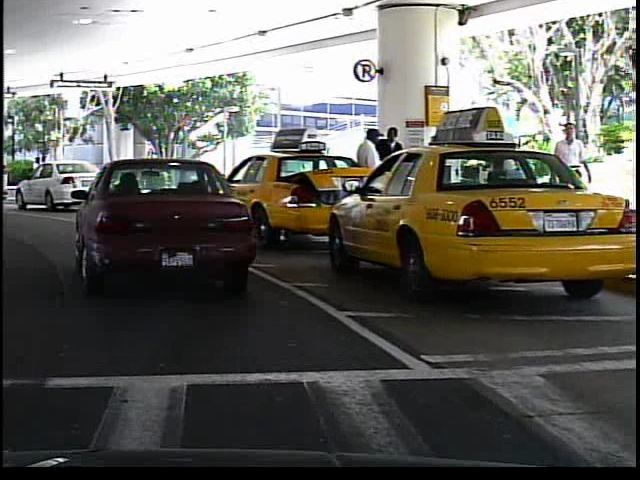person: (548, 117, 591, 232), (351, 126, 385, 229), (376, 125, 406, 224), (24, 151, 49, 194)
